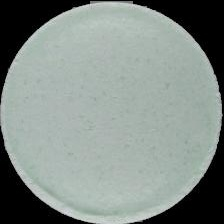54868-3765: (0, 0, 224, 224)
